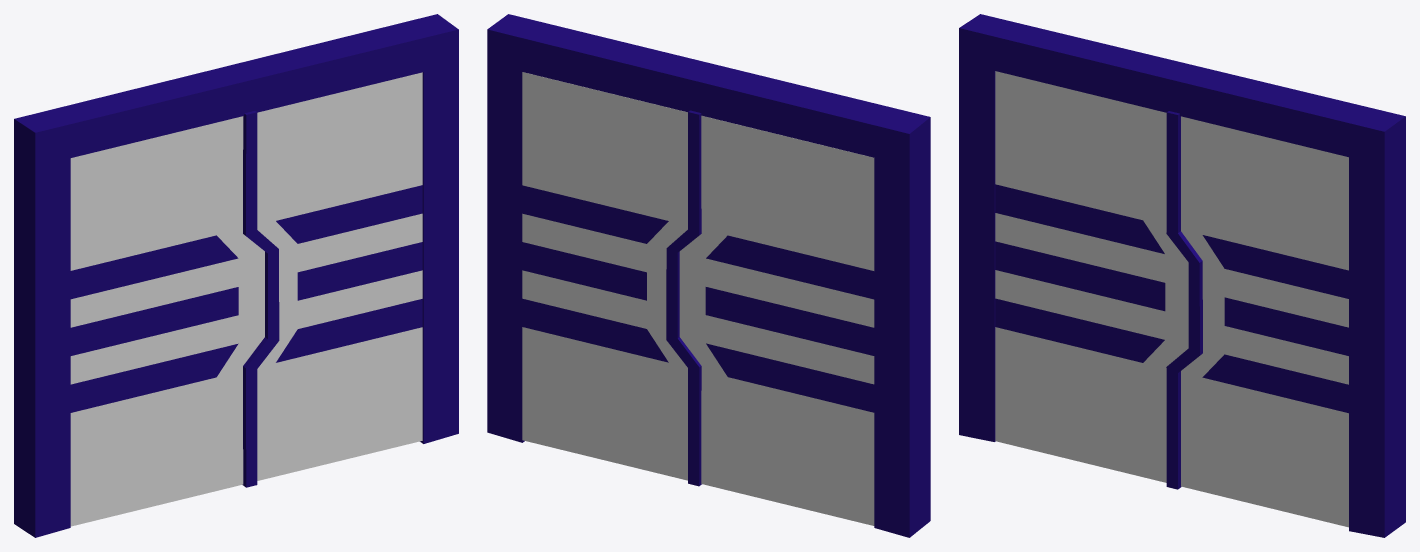
Rendered from FirstGate.fbx.
3 renders of one model, left to right at view 1: azimuth 30°, elevation 25°; view 2: azimuth 150°, elevation 25°; view 3: azimuth 330°, elevation 25°, orthographic.
Parts seen in each view (by area): view 1: Plane.001, Plane, Cube, Cube.005, Cube.001; view 2: Plane.001, Plane, Cube, Cube.001, Cube.005; view 3: Plane.001, Plane, Cube, Cube.001, Cube.005.
Part boxes in pixels (x1,y1,x2,y2): Plane.001: [70, 116, 264, 526]; Plane: [257, 72, 422, 480]; Cube: [14, 14, 458, 537]; Cube.005: [242, 111, 274, 487]; Cube.001: [247, 111, 279, 486]; Plane.001: [679, 115, 874, 525]; Plane: [522, 72, 687, 480]; Cube: [487, 14, 930, 537]; Cube.001: [666, 110, 698, 485]; Cube.005: [668, 111, 701, 486]; Plane.001: [995, 71, 1188, 482]; Plane: [1181, 116, 1348, 527]; Cube: [959, 14, 1405, 537]; Cube.001: [1168, 111, 1202, 489]; Cube.005: [1166, 111, 1197, 488].
Bounding box in the file's own units: 240 × 220 × 25.
